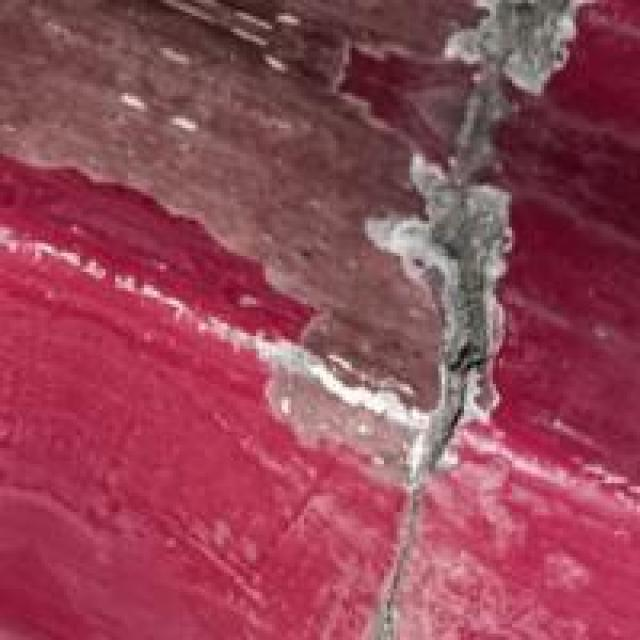crack: (327, 38, 516, 637)
